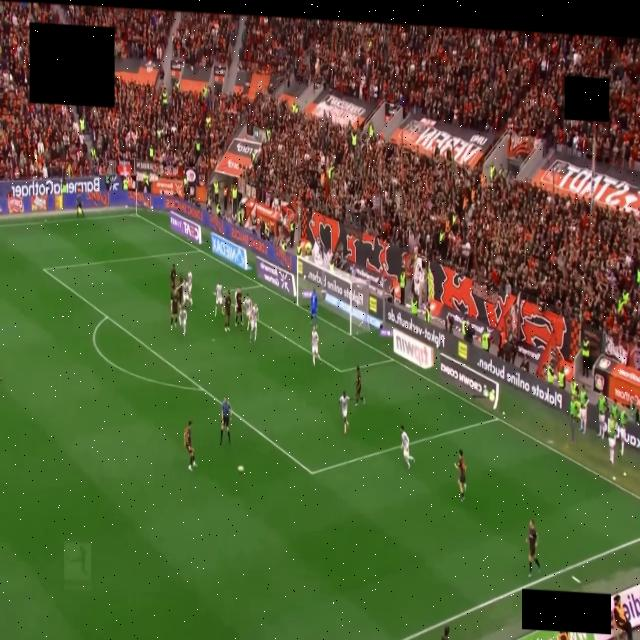ball: (237, 466, 243, 473)
player: (527, 519, 539, 577), (183, 420, 196, 470), (454, 450, 465, 501), (400, 425, 413, 468), (339, 391, 348, 434), (249, 304, 259, 342), (355, 365, 364, 405), (311, 327, 320, 366), (170, 289, 179, 328), (243, 294, 252, 331), (180, 276, 190, 308), (235, 287, 242, 326), (214, 284, 222, 316), (310, 290, 317, 326), (224, 290, 230, 332), (178, 274, 185, 306), (186, 271, 192, 306), (179, 307, 186, 336), (610, 403, 618, 422), (170, 264, 175, 289)
referee: (220, 397, 230, 444)
